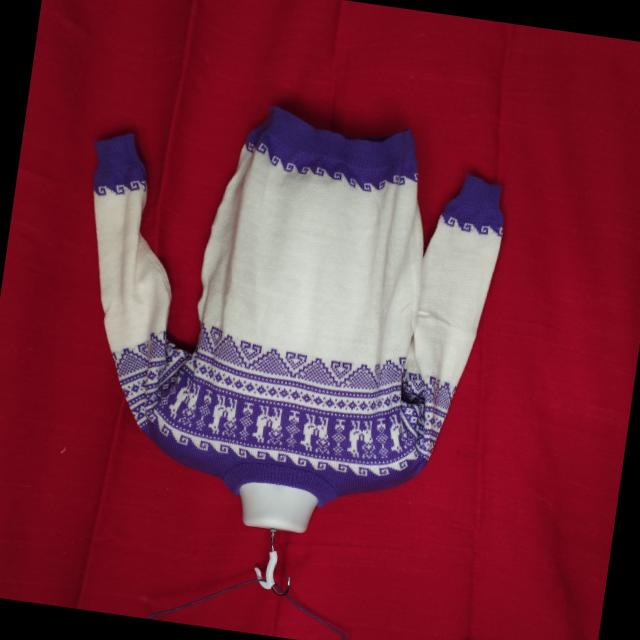Chompa: (45, 81, 518, 558)
